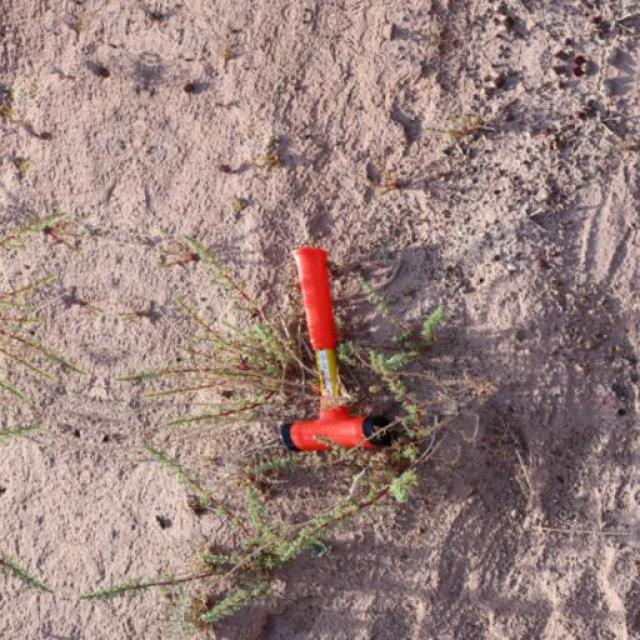mallet: (279, 245, 391, 453)
